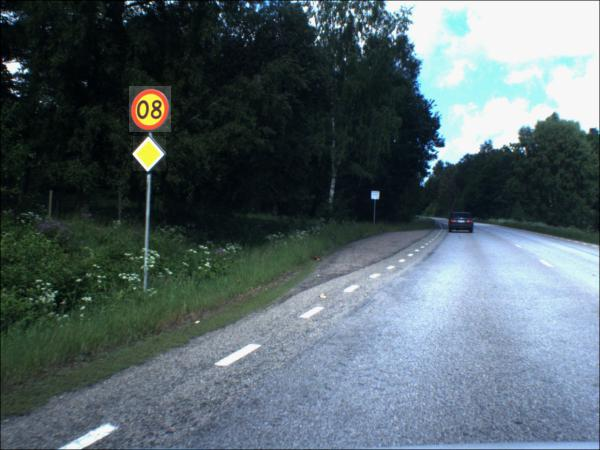80_SIGN: (129, 87, 172, 134)
PRIORITY_ROAD: (133, 138, 167, 174)
